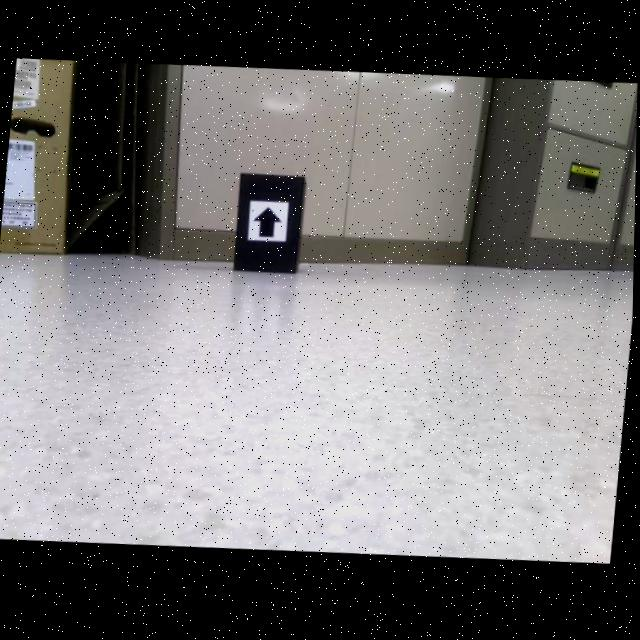UP: (252, 208, 284, 240)
